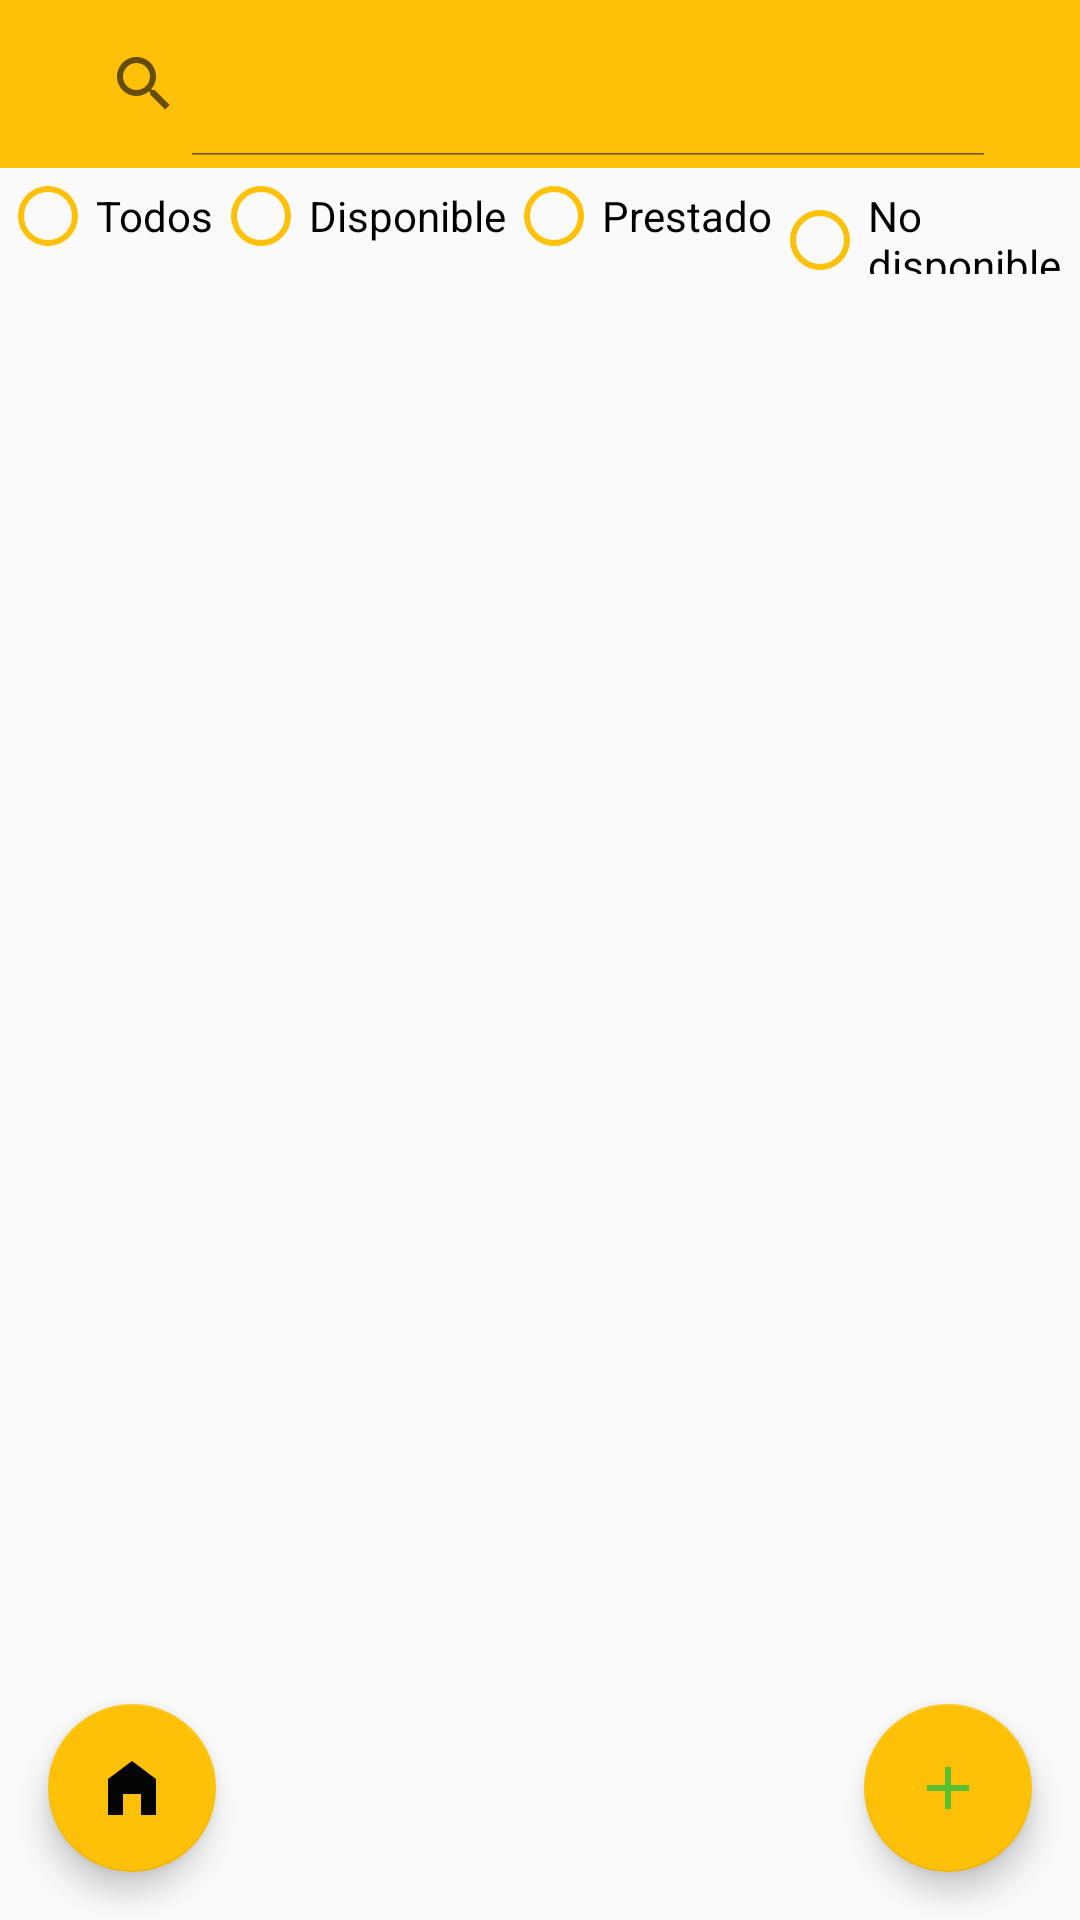

Screen size 1080 × 1920. Icon name, then its center in pixels as [x,y]:
add: [948,1788]
home: [132,1788]
